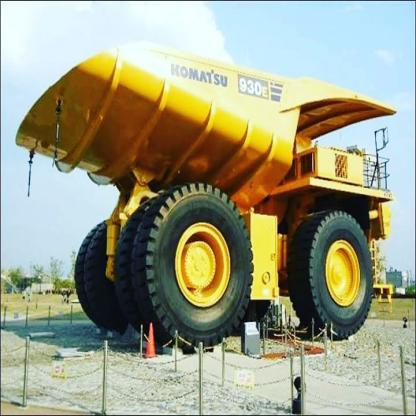dump_truck: (15, 32, 400, 357)
